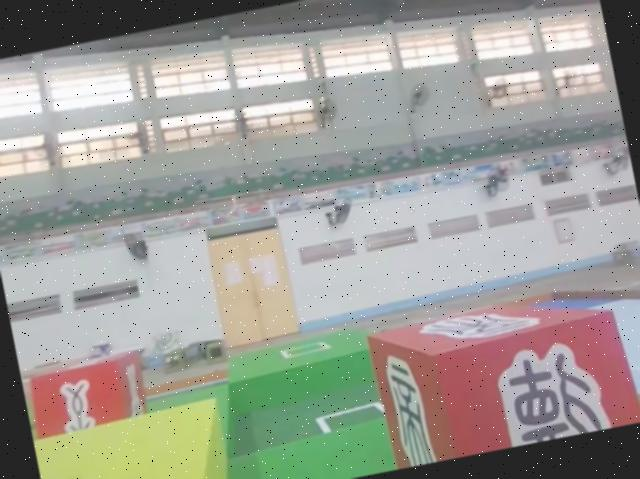R2 Fake: (369, 277, 640, 468)
R2 Real: (20, 343, 156, 444)
